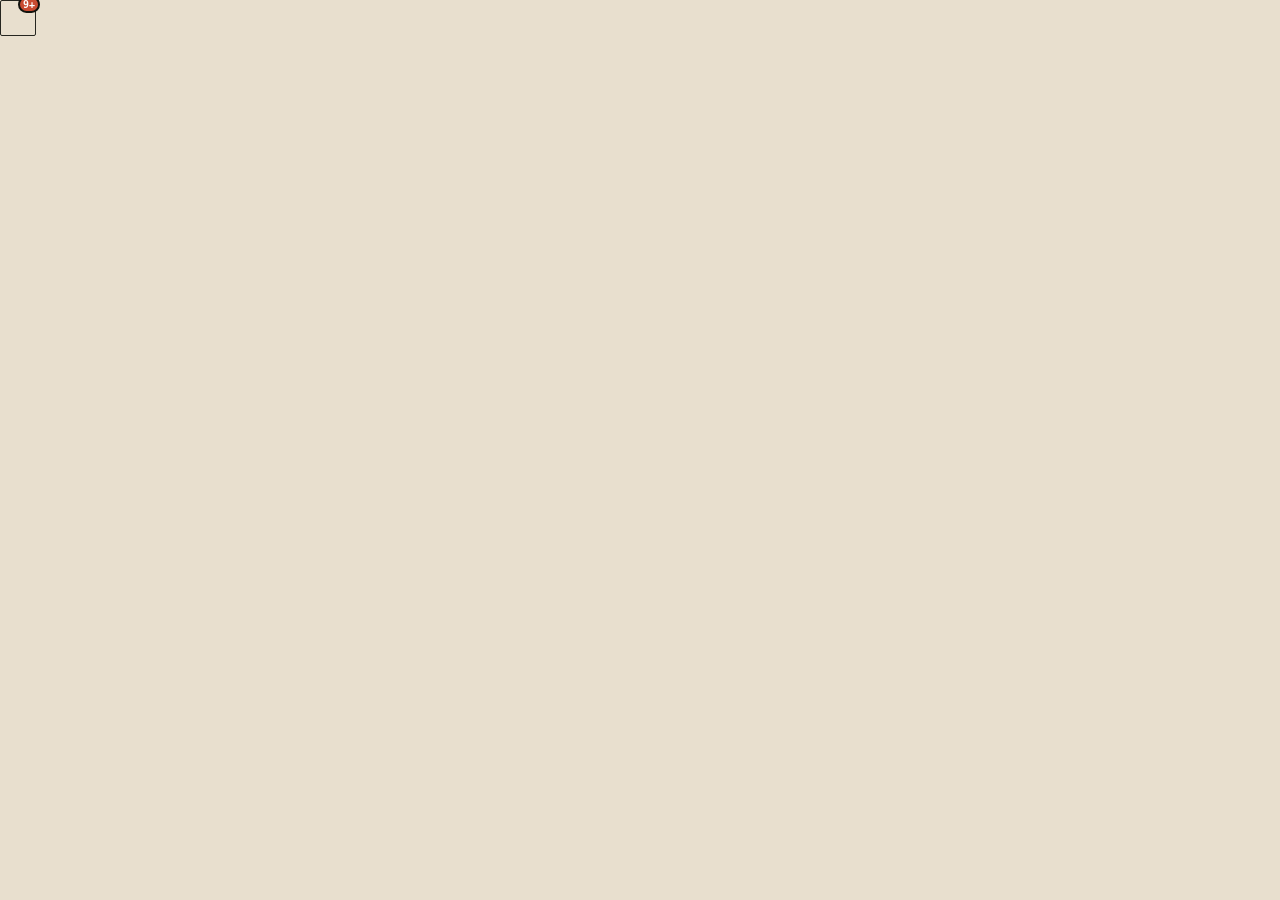
notifications › shows the unread count and the latest blocks
The width and height of the screenshot is (1280, 900).
Click the button named "Notifications, 12 unread" at (18, 18), box left=0, top=0, right=36, bottom=36
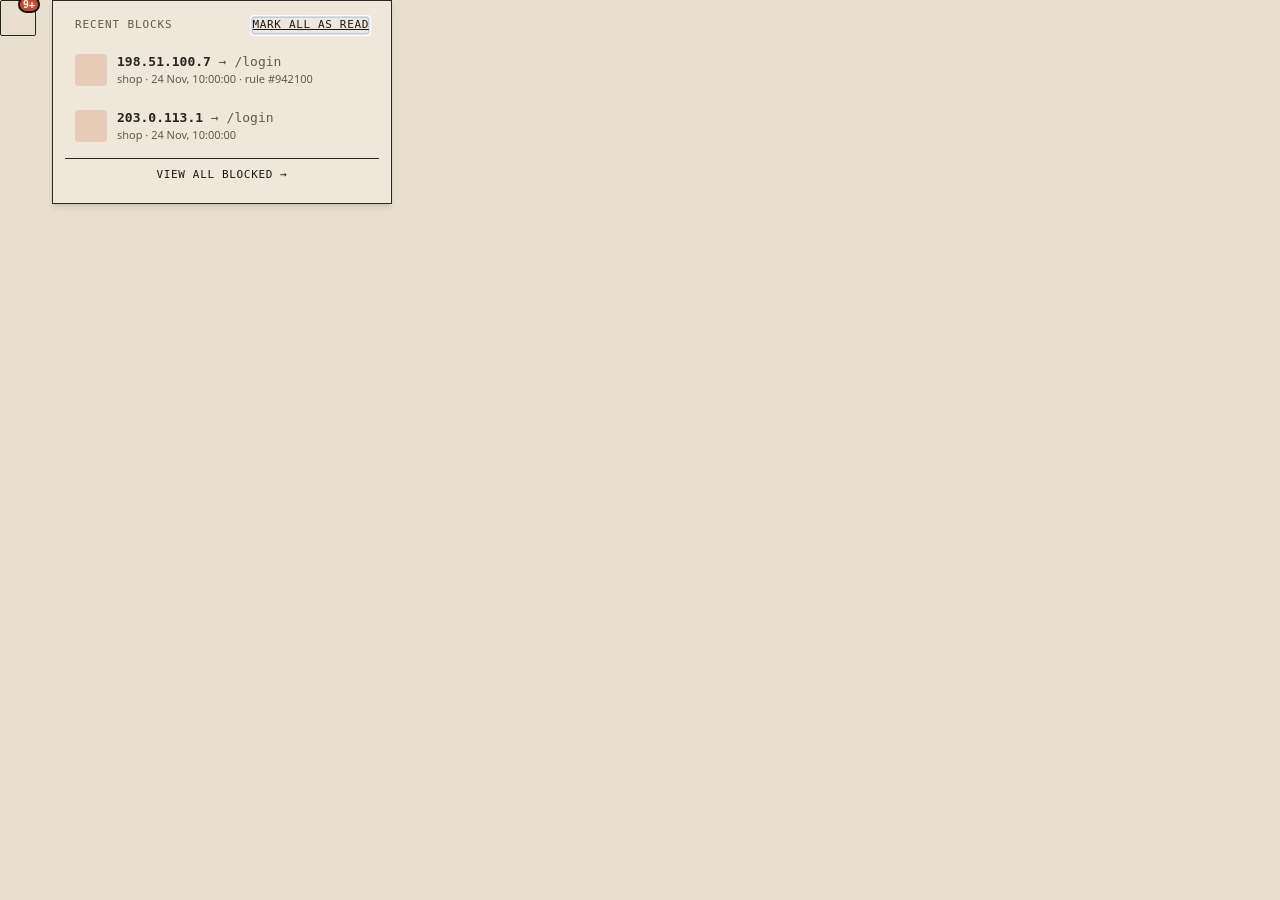
Expected: the text "198.51.100.7" is shown, left=117, top=54, right=211, bottom=68
Expected: the text "shop · 24 Nov, 10:00:00 · rule #942100" is shown once, left=117, top=71, right=313, bottom=86
